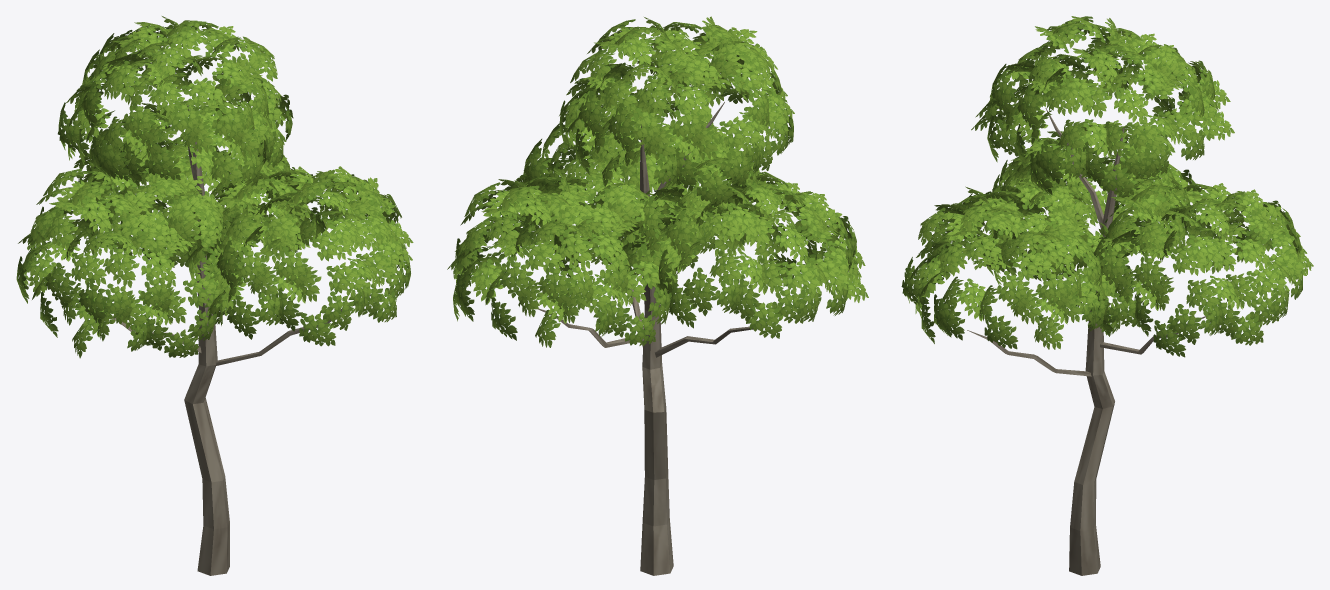
File: Tree_A01.FBX
The picture shows the model from 3 angles, left to right: view 1: azimuth 30°, elevation 25°; view 2: azimuth 150°, elevation 25°; view 3: azimuth 270°, elevation 25°; orthographic projection. The views are drawn at different scales.
Visible parts, largest first — view 1: Tree_A01; view 2: Tree_A01; view 3: Tree_A01.
Part boxes in pixels (x1=…): Tree_A01: x1=16, y1=16, x2=413, y2=575; Tree_A01: x1=447, y1=16, x2=868, y2=575; Tree_A01: x1=901, y1=16, x2=1313, y2=575.
Bounding box in the file's own units: 1032 × 1096 × 1517.
